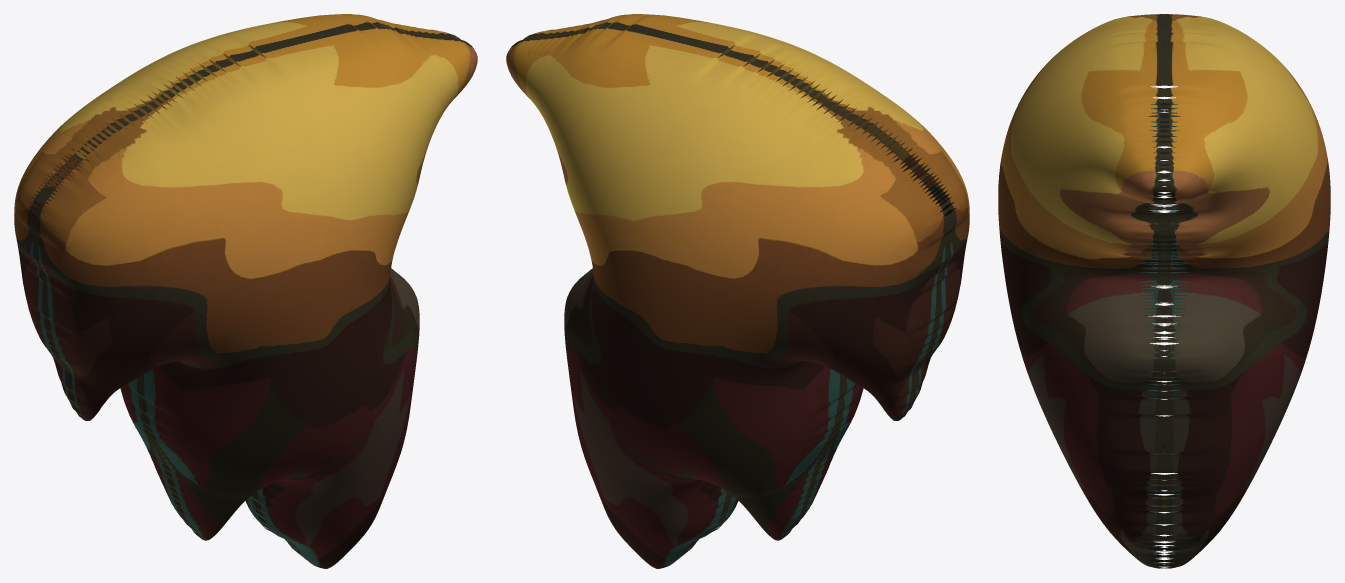
The model's file is south_cliff.glb.
The picture shows the model from 3 angles, left to right: view 1: azimuth 30°, elevation 25°; view 2: azimuth 150°, elevation 25°; view 3: azimuth 270°, elevation 25°; orthographic projection. The views are drawn at different scales.
Visible parts, largest first — view 1: south_cliff; view 2: south_cliff; view 3: south_cliff.
Part boxes in pixels (x1,y1,x2,y2): south_cliff: (14,14,477,568); south_cliff: (506,14,969,568); south_cliff: (998,14,1330,568).
Bounding box in the file's own units: 0.9872 × 1.14 × 0.6871.
1 material, 1 textured.
